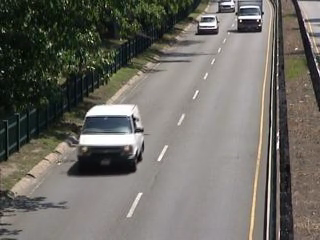car: (195, 15, 222, 36), (217, 1, 236, 15)
truck: (73, 102, 150, 175), (235, 1, 265, 34)
